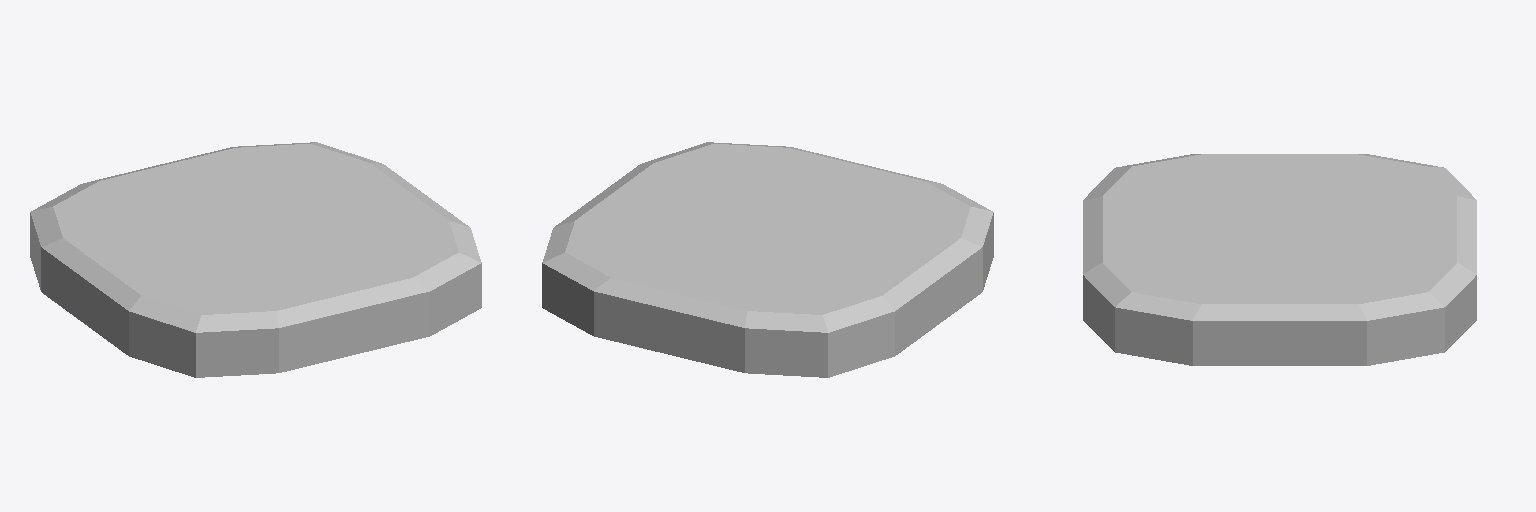
Rendered from tile.obj.
The picture shows the model from 3 angles: view 1: azimuth 30°, elevation 25°; view 2: azimuth 150°, elevation 25°; view 3: azimuth 270°, elevation 25°; orthographic projection.
Visible parts, largest first — view 1: Cube; view 2: Cube; view 3: Cube.
Boxes of the visible parts, <box> form: Cube: <box>30,142,481,377</box>; Cube: <box>542,142,993,377</box>; Cube: <box>1083,154,1476,365</box>.
Size of the model in its own units: 2 by 0.2974 by 2.